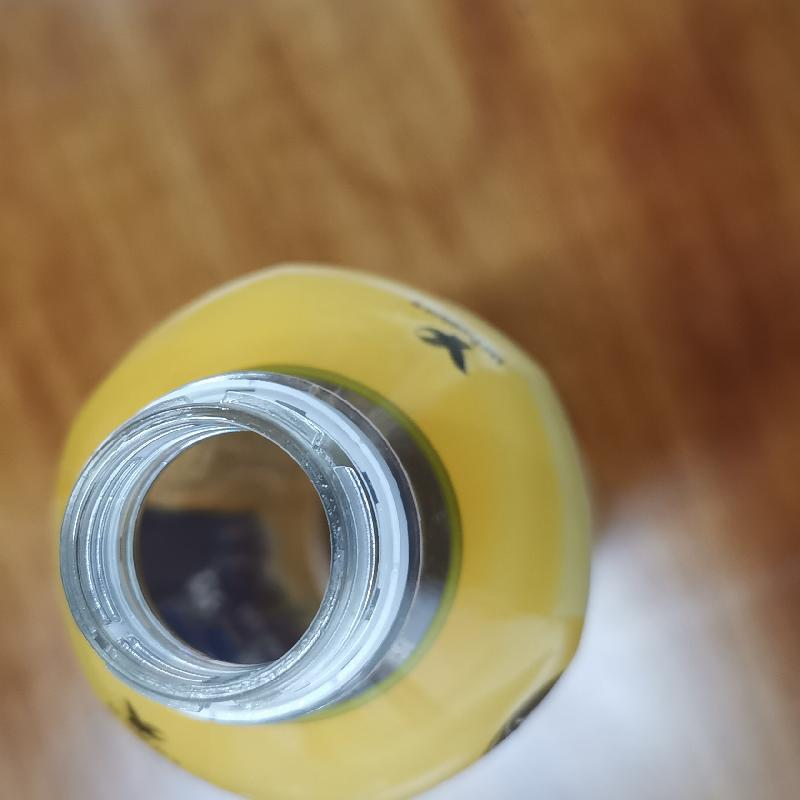bottles: (56, 263, 598, 800)
